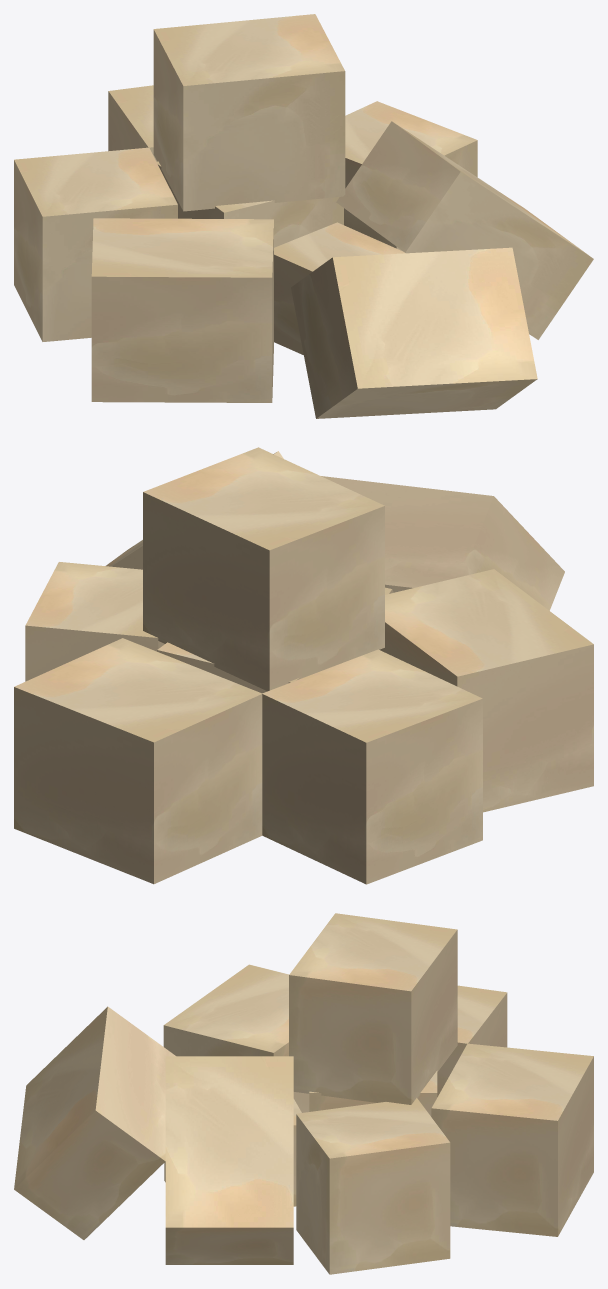
File: ayamdadu-banyak.glb
The picture shows the model from 3 angles, top to bottom: view 1: azimuth 30°, elevation 25°; view 2: azimuth 150°, elevation 25°; view 3: azimuth 270°, elevation 25°; orthographic projection. The views are drawn at different scales.
Visible parts, largest first — view 1: Cube.009, Cube.007, Cube.006, Cube.008, Cube.005, Cube.004, Cube.003, Cube.001, Cube.002; view 2: Cube.002, Cube.007, Cube.005, Cube.006, Cube.009, Cube.003, Cube.001, Cube.008; view 3: Cube.007, Cube.008, Cube.002, Cube.009, Cube.003, Cube.006, Cube.005, Cube.001, Cube.004.
Part boxes in pixels (x1,y1,x2,y2): Cube.009: (291,247,537,418); Cube.007: (153,14,345,211); Cube.006: (91,218,273,402); Cube.008: (336,121,593,339); Cube.005: (14,147,177,341); Cube.004: (274,222,405,354); Cube.003: (344,101,477,251); Cube.001: (156,161,343,247); Cube.002: (108,85,156,161); Cube.002: (14,638,262,884); Cube.007: (143,447,384,691); Cube.005: (262,649,482,884); Cube.006: (379,569,593,812); Cube.009: (321,476,564,610); Cube.003: (25,562,164,681); Cube.001: (157,642,299,693); Cube.008: (106,451,283,569); Cube.007: (289,913,457,1104); Cube.008: (165,1056,293,1264); Cube.002: (431,1043,593,1236); Cube.009: (14,1006,175,1239); Cube.003: (296,1098,450,1274); Cube.006: (163,964,309,1112); Cube.005: (437,985,507,1096); Cube.001: (309,1070,437,1116); Cube.004: (164,1099,301,1206).
Bounding box in the file's own units: 0.5125 × 0.2861 × 0.6078.
9 materials, 9 textured.
